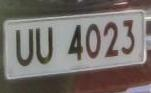0: (84, 18, 104, 65)
2: (102, 17, 121, 62)
3: (120, 15, 138, 60)
4: (65, 19, 85, 67)
U: (34, 22, 58, 70), (13, 24, 36, 72)
